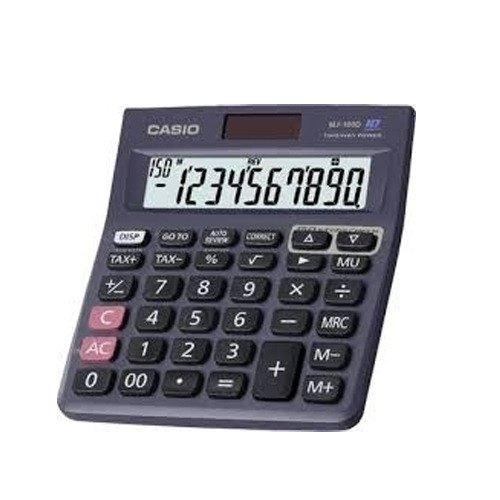Calculator: (55, 86, 423, 449)
